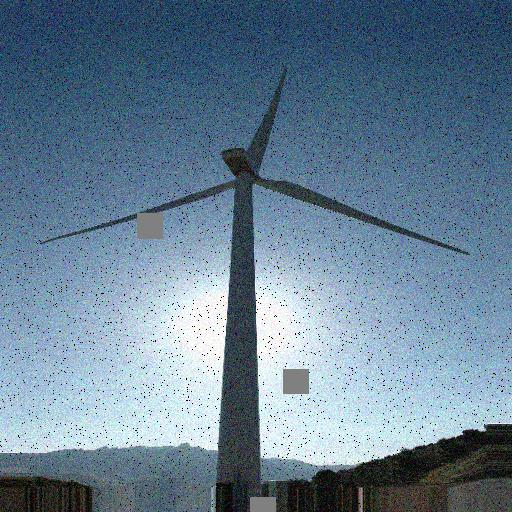wind turbine: (39, 63, 470, 482)
